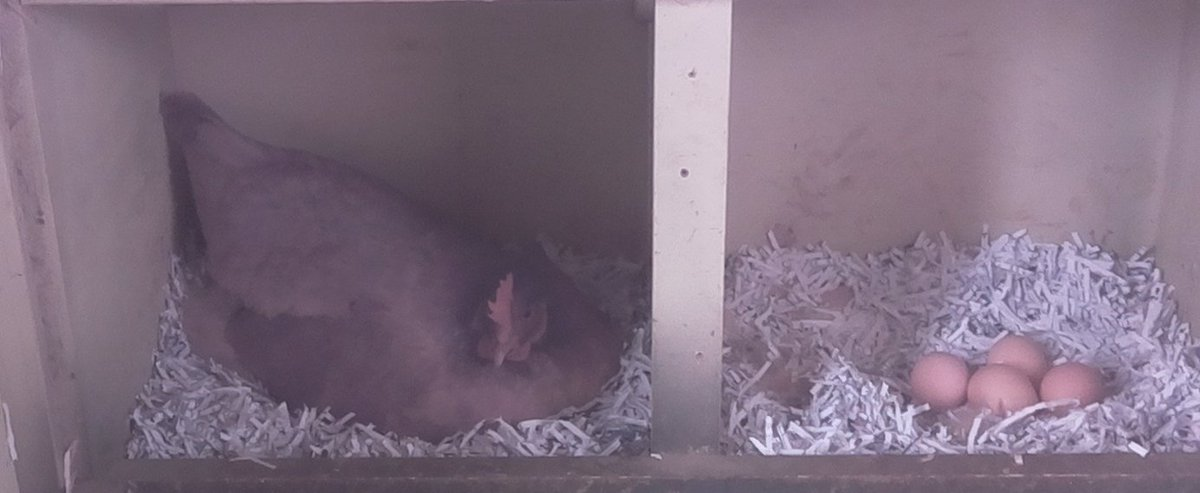egg: (965, 359, 1042, 430), (1037, 357, 1111, 416), (907, 349, 971, 409), (986, 332, 1051, 376)
hen: (171, 111, 626, 440)
